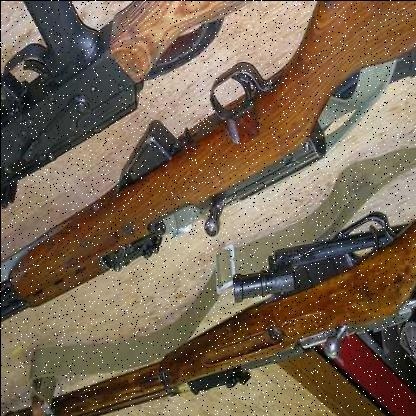rifle: (48, 182, 412, 416), (13, 59, 311, 343)
